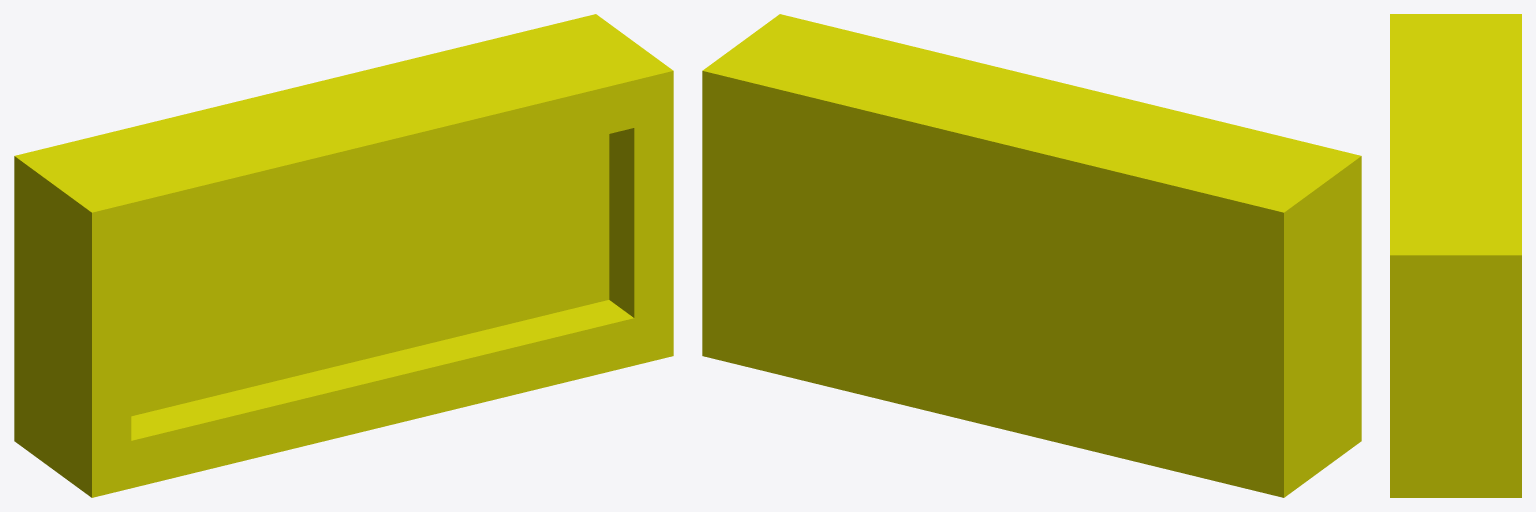
3 views of the same model, side by side, from view 1: azimuth 30°, elevation 25°; view 2: azimuth 150°, elevation 25°; view 3: azimuth 270°, elevation 25° (orthographic). The views are drawn at different scales.
Parts seen in each view (by area): view 1: time; view 2: time; view 3: time.
Part boxes in pixels (left/top/right/bottom): time: left=14, top=14, right=673, bottom=497; time: left=702, top=14, right=1361, bottom=497; time: left=1390, top=14, right=1521, bottom=497.
Size of the model in its own units: 0.8277 by 0.3879 by 0.1912.
1 material, 1 textured.
